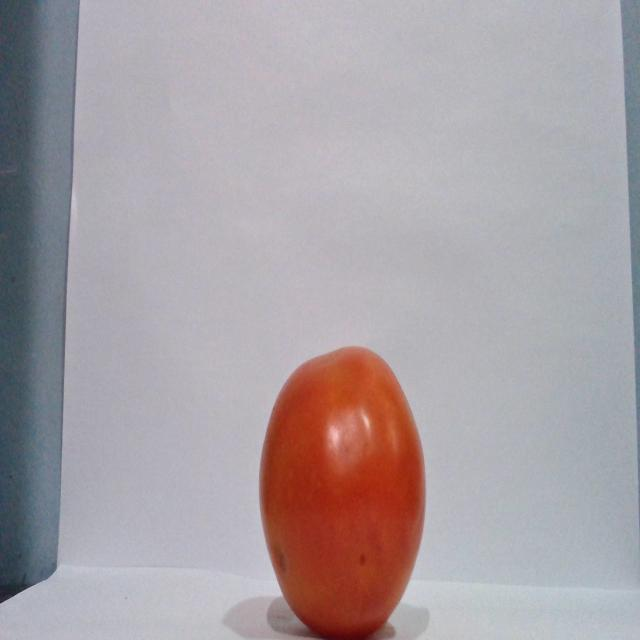Red: (257, 344, 427, 637)
